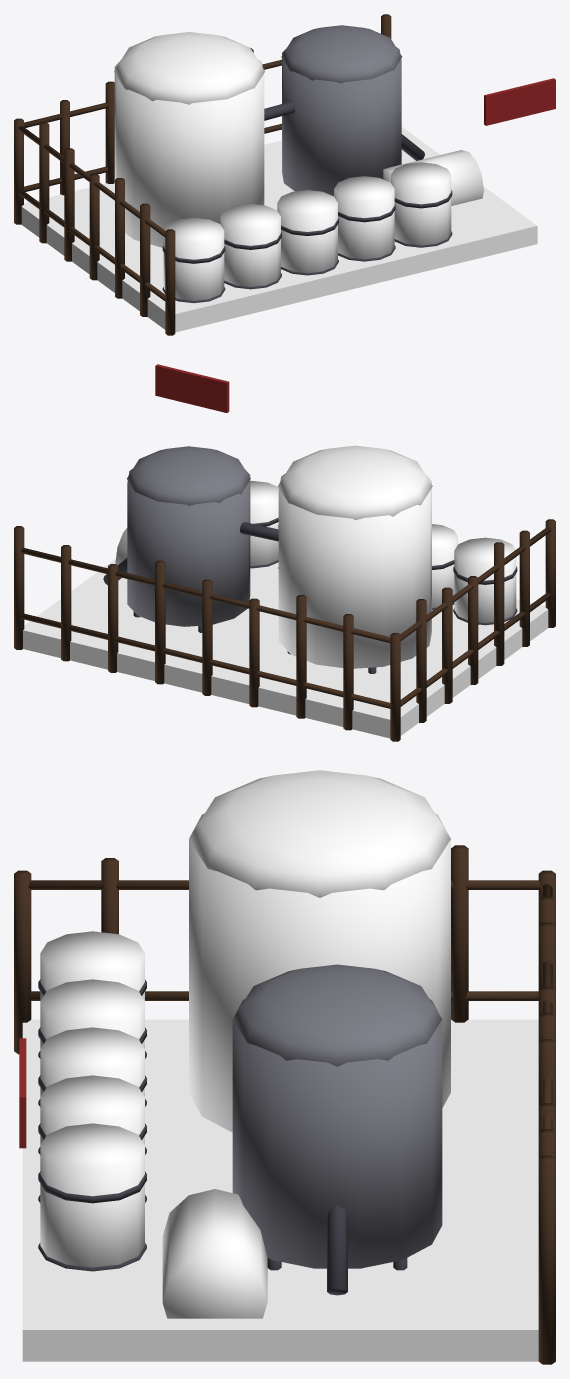
File: sklad_paliwa.glb
The picture shows the model from 3 angles, top to bottom: view 1: azimuth 30°, elevation 25°; view 2: azimuth 150°, elevation 25°; view 3: azimuth 270°, elevation 25°; orthographic projection. The views are drawn at different scales.
Parts seen in each view (by area): view 1: paliwo_1, paliwo_2, paliwo_8, paliwo_3, paliwo_9, paliwo_26, paliwo_20, paliwo_17, paliwo_23, paliwo_14, paliwo_52, paliwo_29 (+13 smaller); view 2: paliwo_1, paliwo_2, paliwo_8, paliwo_3, paliwo_9, paliwo_14, paliwo_52, paliwo_41, paliwo_42, paliwo_26, paliwo_17, paliwo_37 (+17 smaller); view 3: paliwo_1, paliwo_8, paliwo_2, paliwo_3, paliwo_9, paliwo_26, paliwo_29, paliwo_17, paliwo_20, paliwo_14, paliwo_23, paliwo_40 (+11 smaller).
Part boxes in pixels (x1,y1,x2,y2): paliwo_1: [21, 127, 537, 332]; paliwo_2: [114, 59, 264, 247]; paliwo_8: [282, 47, 401, 196]; paliwo_3: [114, 32, 264, 104]; paliwo_9: [281, 25, 401, 83]; paliwo_26: [391, 162, 451, 245]; paliwo_20: [277, 190, 337, 273]; paliwo_17: [220, 204, 280, 286]; paliwo_23: [334, 176, 394, 259]; paliwo_14: [163, 217, 224, 300]; paliwo_52: [484, 78, 555, 125]; paliwo_29: [383, 150, 483, 205]; paliwo_1: [23, 558, 548, 738]; paliwo_2: [278, 473, 431, 668]; paliwo_8: [127, 468, 250, 626]; paliwo_3: [278, 445, 432, 520]; paliwo_9: [127, 446, 250, 505]; paliwo_14: [454, 537, 516, 622]; paliwo_52: [155, 364, 229, 412]; paliwo_41: [21, 613, 390, 708]; paliwo_42: [21, 548, 390, 642]; paliwo_26: [250, 480, 278, 565]; paliwo_17: [432, 524, 457, 607]; paliwo_37: [155, 560, 165, 684]; paliwo_1: [22, 1019, 538, 1361]; paliwo_8: [232, 999, 442, 1268]; paliwo_2: [189, 813, 450, 1132]; paliwo_3: [189, 770, 450, 897]; paliwo_9: [232, 964, 442, 1066]; paliwo_26: [40, 1123, 144, 1267]; paliwo_29: [162, 1189, 267, 1318]; paliwo_17: [40, 979, 144, 1048]; paliwo_20: [40, 1027, 144, 1096]; paliwo_14: [40, 931, 144, 1000]; paliwo_23: [40, 1075, 144, 1144]; paliwo_40: [538, 1155, 555, 1364].
Size of the model in its own units: 4.44 by 2.16 by 3.1.
